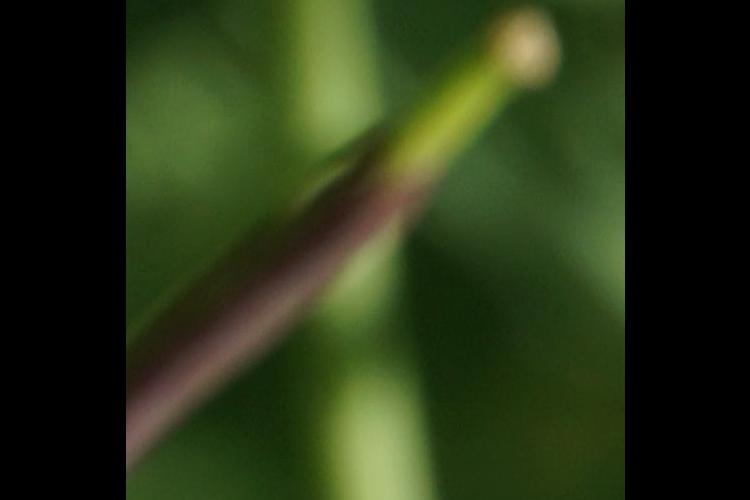pod: (132, 1, 548, 500)
